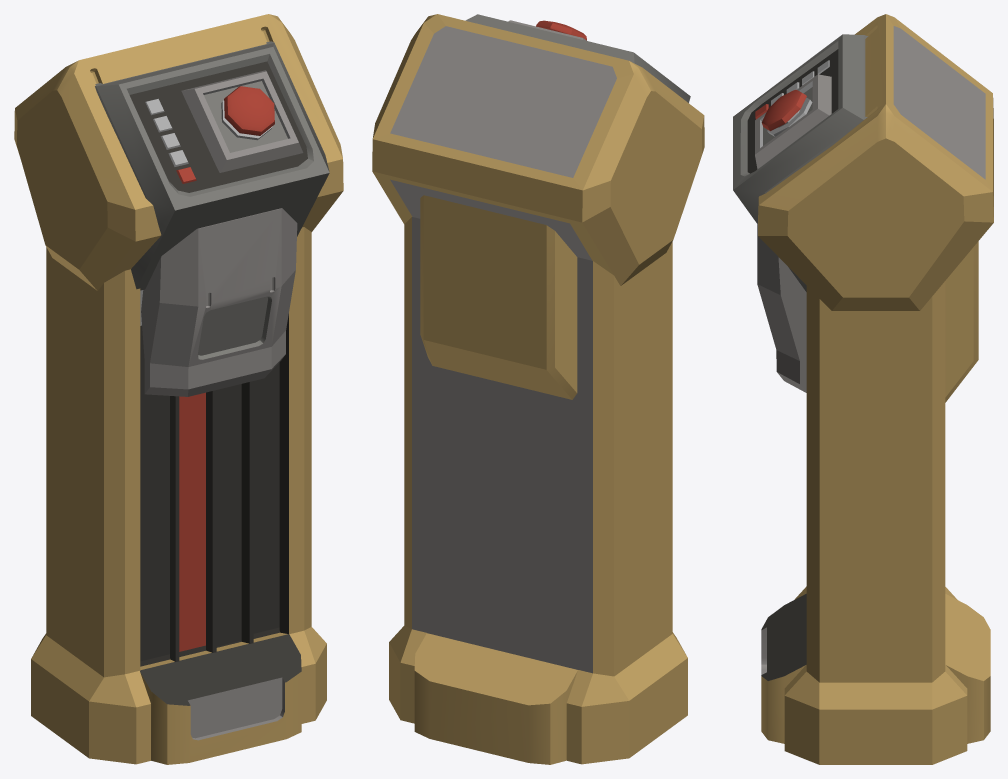
The model's file is red_button.fbx.
3 views of the same model, side by side, from view 1: azimuth 30°, elevation 25°; view 2: azimuth 150°, elevation 25°; view 3: azimuth 270°, elevation 25° (orthographic). The views are drawn at different scales.
Parts seen in each view (by area): view 1: polySurface47; view 2: polySurface47; view 3: polySurface47.
Part boxes in pixels (x1,y1,x2,y2): polySurface47: (14, 14, 343, 764); polySurface47: (372, 14, 704, 764); polySurface47: (733, 14, 993, 764).
Size of the model in its own units: 1.13 by 3.06 by 1.11.
